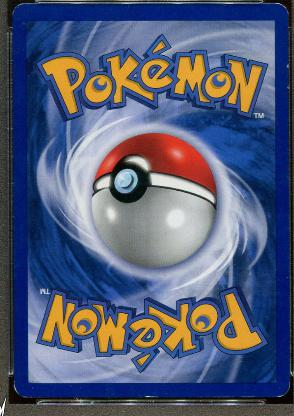Card: (13, 1, 289, 397)
Corner Wear: (12, 380, 31, 398), (274, 381, 288, 397), (273, 3, 288, 17), (11, 2, 23, 16)
Edge Wear: (131, 396, 253, 399), (285, 50, 288, 102), (257, 2, 276, 4)
